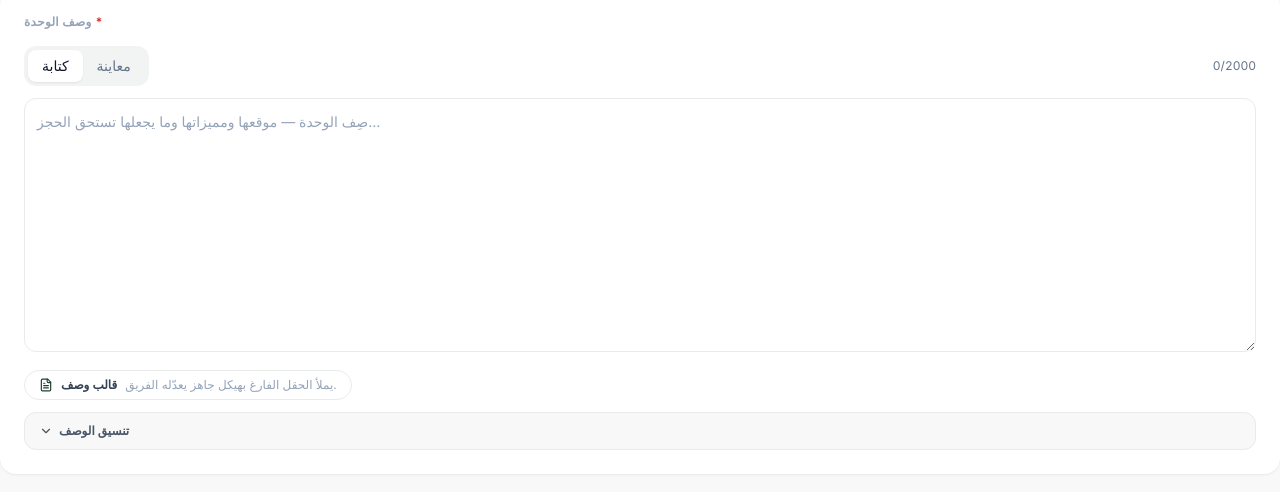
DescriptionField › points the field at its own error message
This screenshot has width=1280, height=492.
In the text box named "وصف الوحدة": (640, 225) [24,98,1256,352], type "قصير"
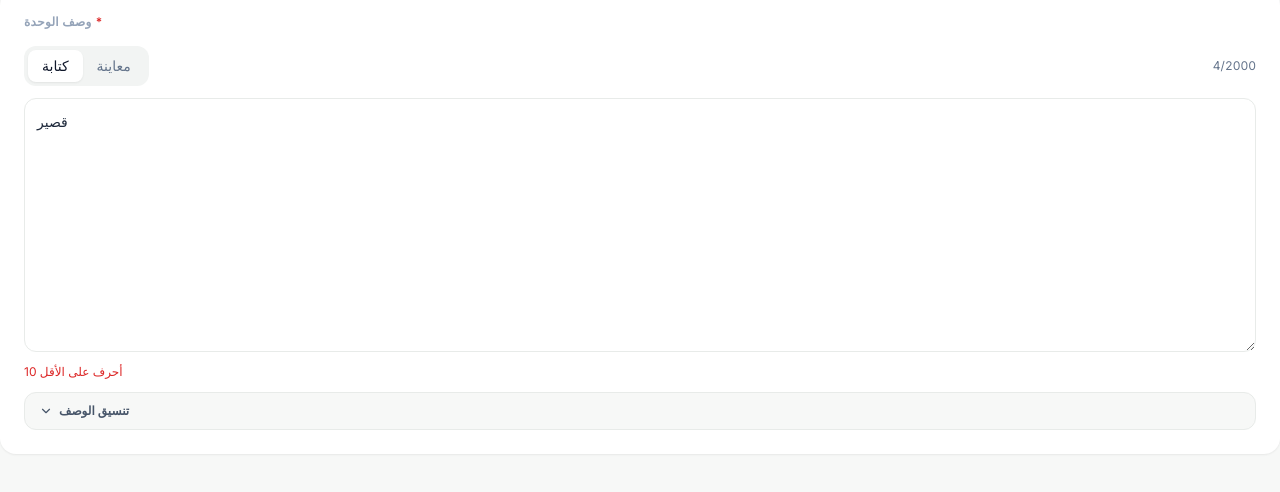
Result: the element with id "unit-description-error" reads "10 أحرف على الأقل" at [24,364,122,378]
